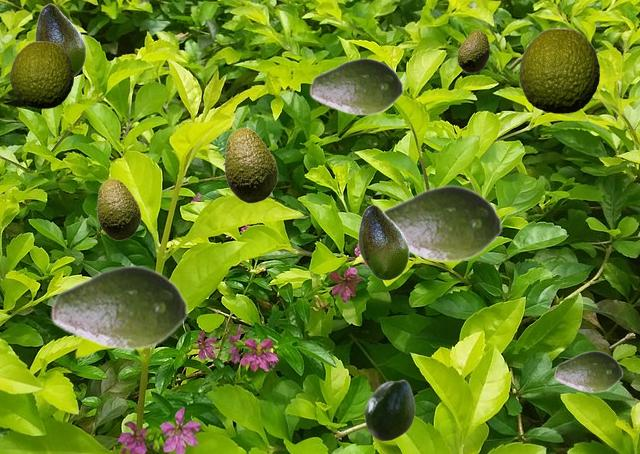avocado: (50, 264, 188, 350), (383, 184, 502, 262), (519, 28, 598, 112), (309, 57, 403, 115), (222, 127, 277, 202), (10, 41, 72, 107), (358, 204, 408, 279), (35, 3, 85, 77), (364, 379, 414, 440), (554, 350, 622, 392), (95, 178, 140, 239), (457, 29, 488, 72)
